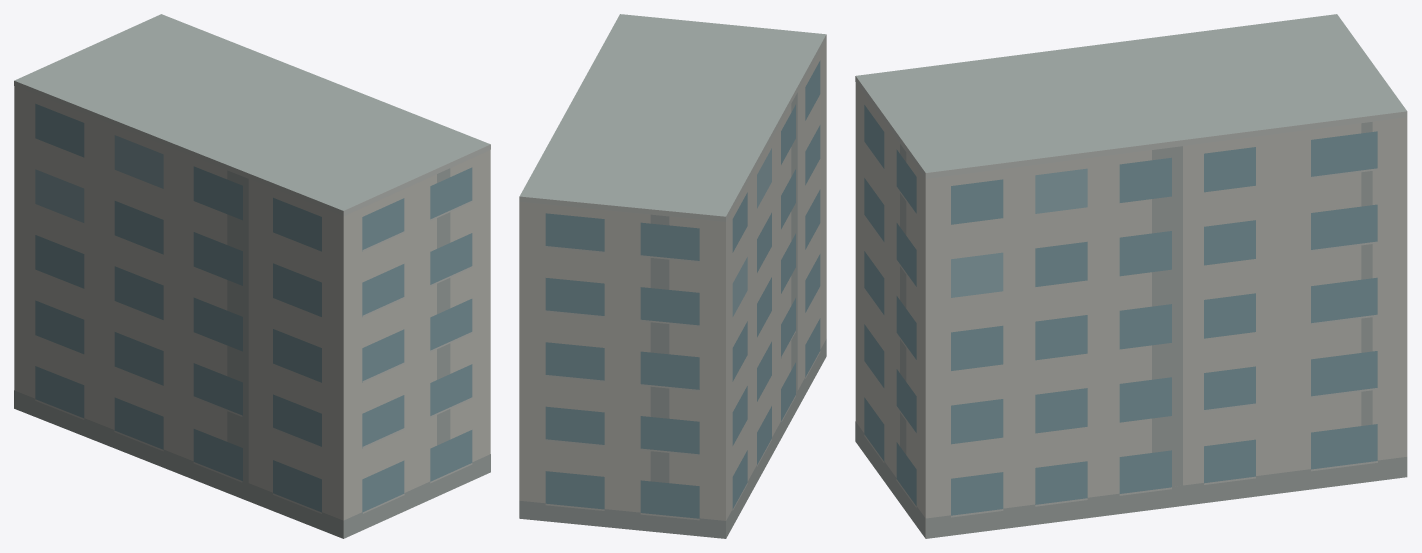
Rendered from survey-upis-32751954.glb.
3 renders of one model, left to right at view 1: azimuth 30°, elevation 25°; view 2: azimuth 150°, elevation 25°; view 3: azimuth 270°, elevation 25°, orthographic. The views are drawn at different scales.
Parts seen in each view (by area): view 1: survey-upis-32751954.tmp; view 2: survey-upis-32751954.tmp; view 3: survey-upis-32751954.tmp.
Part boxes in pixels (x1,y1,x2,y2): survey-upis-32751954.tmp: [14, 14, 490, 538]; survey-upis-32751954.tmp: [519, 14, 826, 538]; survey-upis-32751954.tmp: [855, 14, 1407, 538].
Size of the model in its own units: 13.81 by 14.8 by 20.24.
